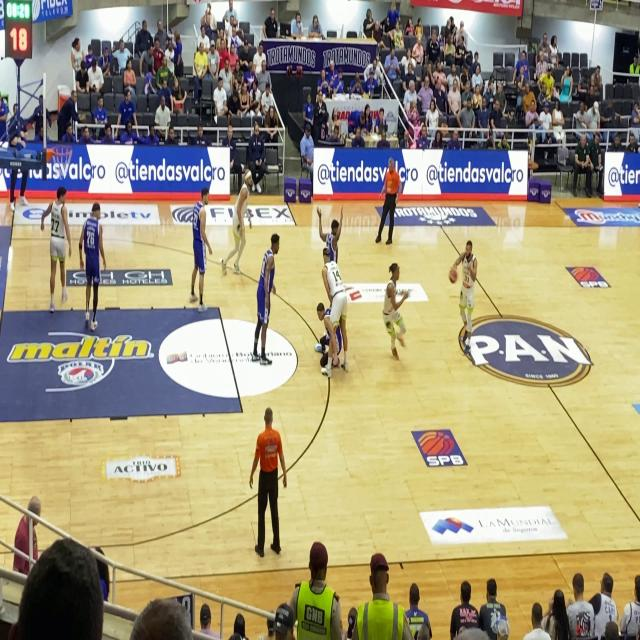Ball: (448, 266, 458, 288)
referee: (258, 404, 284, 558), (381, 158, 400, 246)
team1: (48, 179, 69, 306), (324, 249, 348, 332), (232, 171, 248, 276), (389, 258, 405, 357), (464, 234, 478, 337)
team2: (256, 230, 274, 367), (82, 206, 102, 326), (192, 193, 207, 309), (326, 216, 342, 254)
ubasket: (49, 141, 73, 176)
